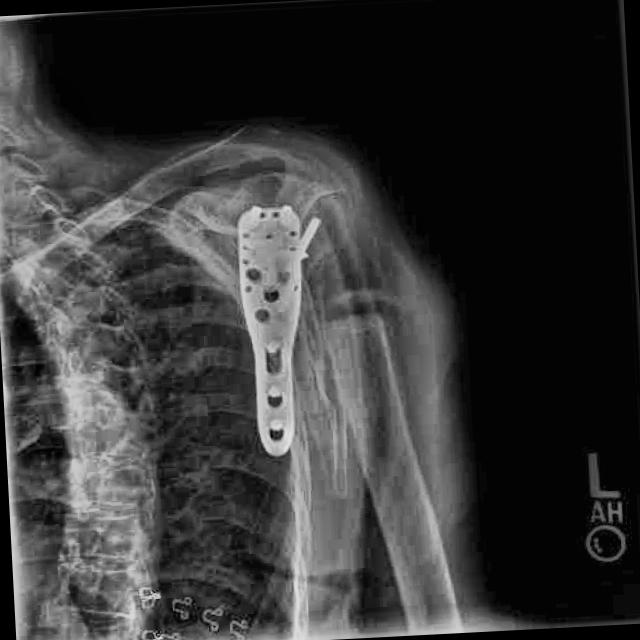shoulder fracture: (286, 236, 401, 381)
